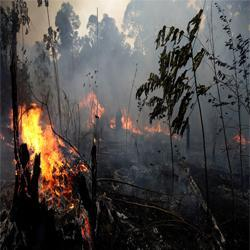fire: (22, 108, 42, 151), (43, 138, 63, 179)
